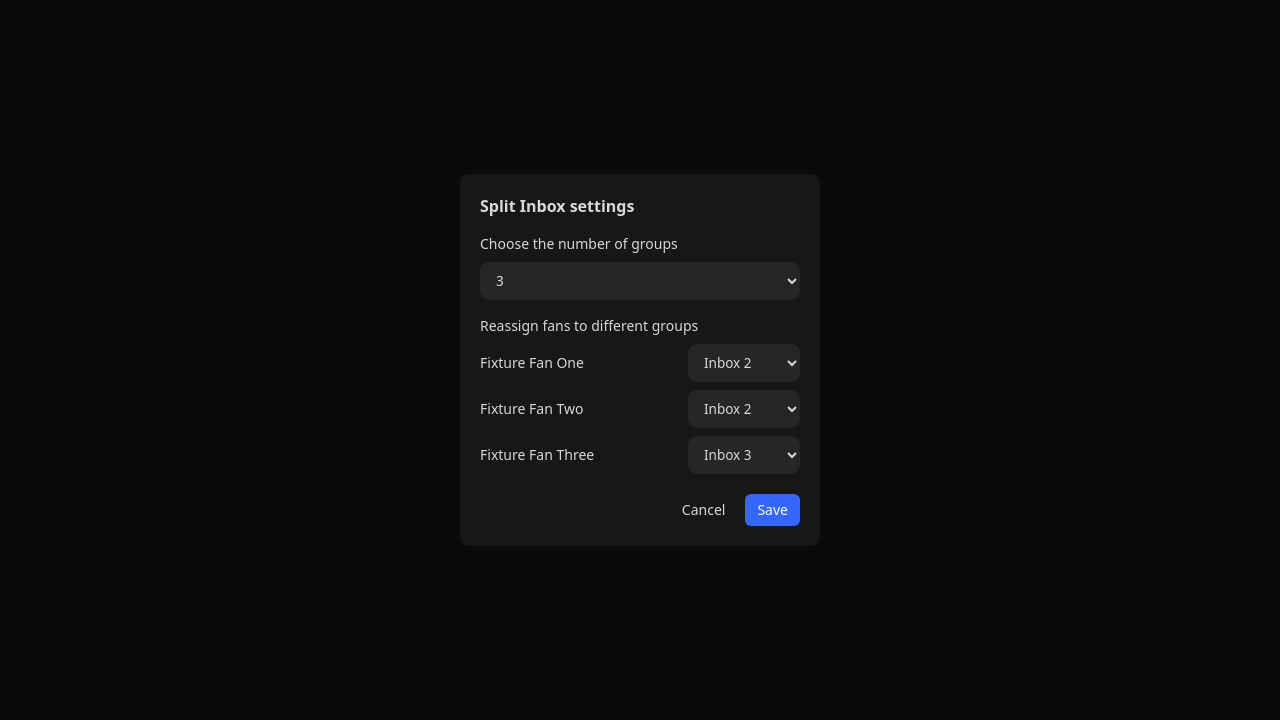
Scenario: SplitInbox › a failed PUT keeps the dialog open and shows the relay's error
This screenshot has width=1280, height=720.
Select "2" in the dropdown labelled "Choose the number of groups" at (640, 281), box [480,262,800,300]
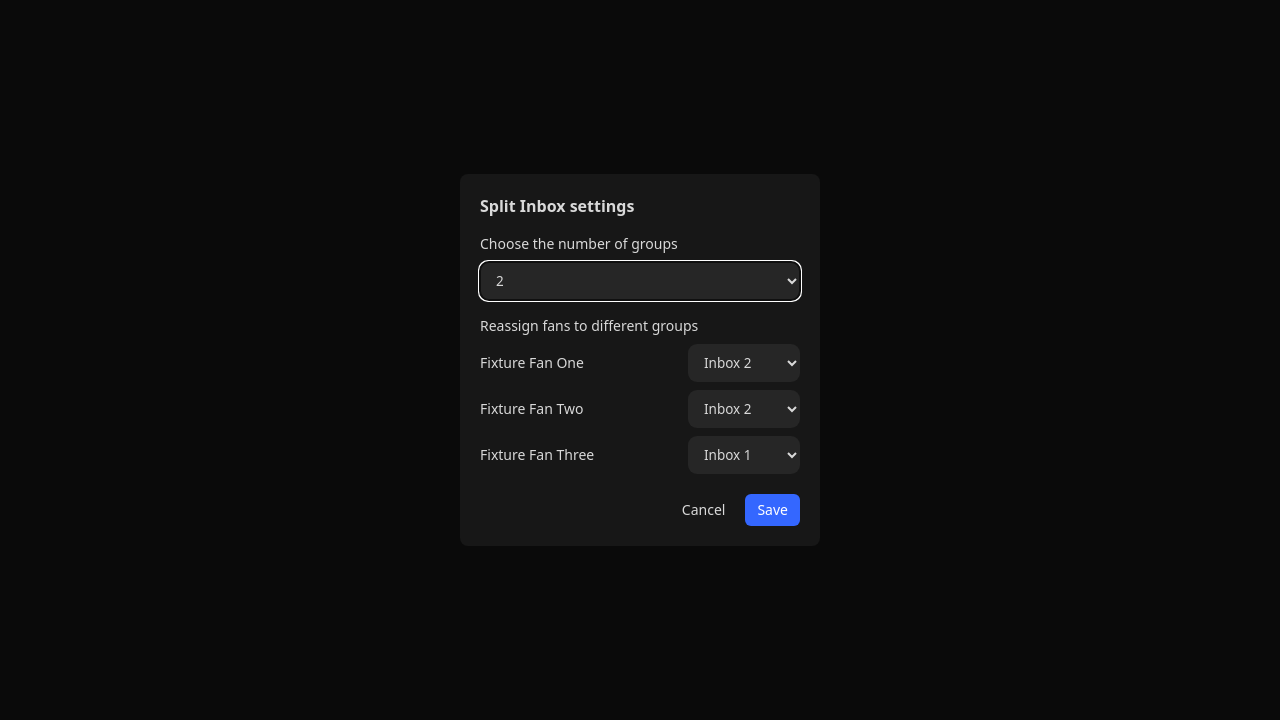
Click the button "Save".
click(773, 510)  # box [745,494,800,526]
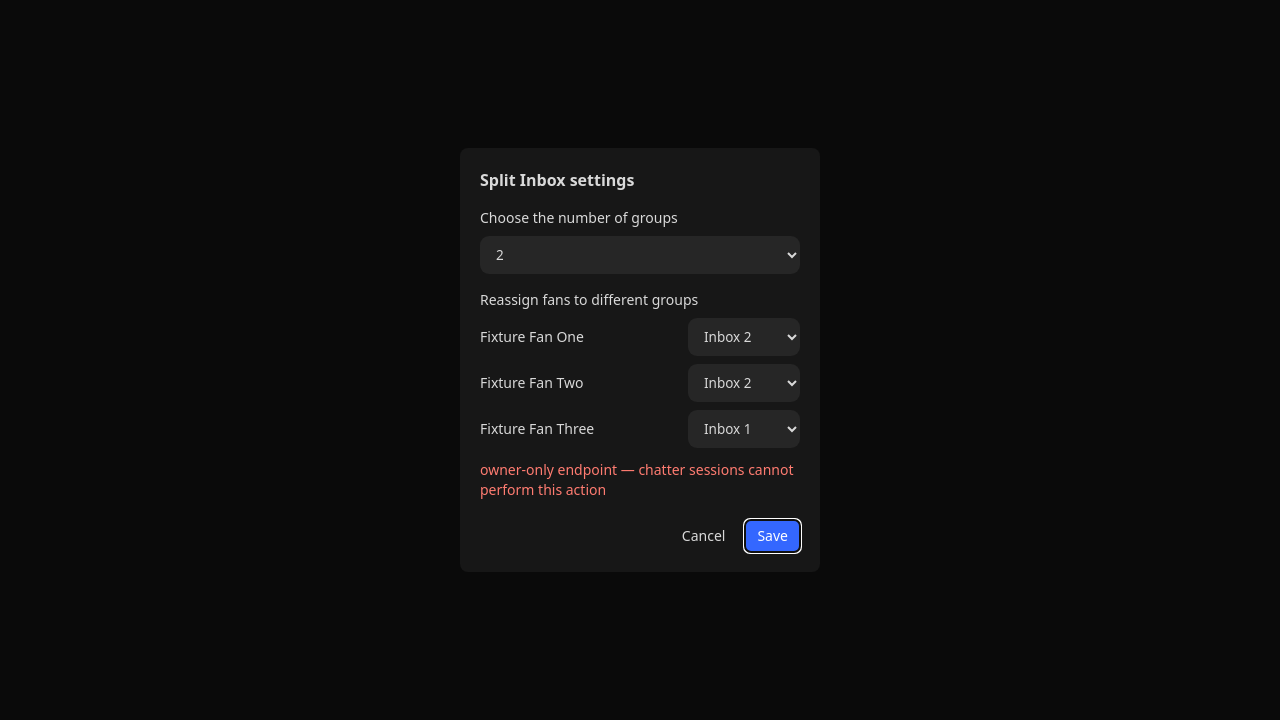
expect the dialog "Split Inbox settings" is shown: met, box [460,148,820,572]
expect the message reads "owner-only endpoint — chatter sessions cannot perform this action": met, box [480,460,794,499]
